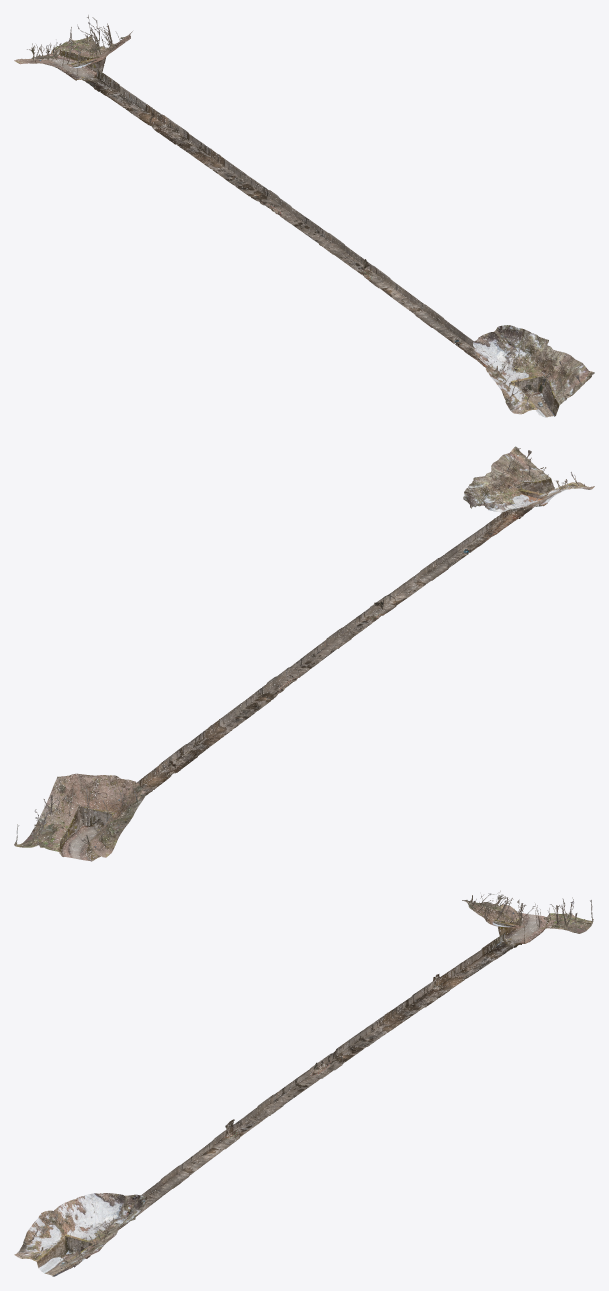
The model's file is futatsugoya_tunnel_abandoned_road_japan.glb.
3 renders of one model, top to bottom at view 1: azimuth 30°, elevation 25°; view 2: azimuth 150°, elevation 25°; view 3: azimuth 330°, elevation 25°, orthographic.
Visible parts, largest first — view 1: Object_6, Object_2, Object_9, Object_10, Object_8, Object_12, Object_7, Object_4, Object_5, Object_13, Object_11, Object_14; view 2: Object_2, Object_9, Object_6, Object_7, Object_4, Object_12, Object_10, Object_8, Object_5, Object_13, Object_11, Object_14; view 3: Object_2, Object_6, Object_9, Object_12, Object_7, Object_4, Object_8, Object_10, Object_5, Object_11, Object_13, Object_14.
Boxes of the visible parts, x1,y1,x2,y2 form: Object_6: (17,17,591,416); Object_2: (17,15,594,417); Object_9: (18,23,590,413); Object_10: (14,16,594,417); Object_8: (22,27,587,414); Object_12: (26,32,589,413); Object_7: (24,28,591,416); Object_4: (20,28,591,415); Object_5: (27,27,589,413); Object_13: (15,29,588,414); Object_11: (23,22,589,413); Object_14: (22,29,593,415); Object_2: (15,447,589,859); Object_9: (14,448,583,857); Object_6: (17,448,593,860); Object_7: (19,449,584,859); Object_4: (38,449,585,857); Object_12: (35,452,574,859); Object_10: (17,446,584,861); Object_8: (14,453,594,855); Object_5: (17,452,587,860); Object_13: (22,453,590,857); Object_11: (24,451,587,859); Object_14: (26,447,592,856); Object_2: (19,890,593,1273); Object_6: (15,894,592,1276); Object_9: (24,897,592,1271); Object_12: (19,893,592,1271); Object_7: (20,895,589,1275); Object_4: (22,895,590,1272); Object_8: (14,899,584,1263); Object_10: (23,894,591,1274); Object_5: (21,892,573,1273); Object_11: (21,896,579,1268); Object_13: (18,897,576,1270); Object_14: (16,894,590,1276).
Size of the model in its own units: 40.37 by 19.13 by 417.
Materials: 12 (12 with a texture image).
